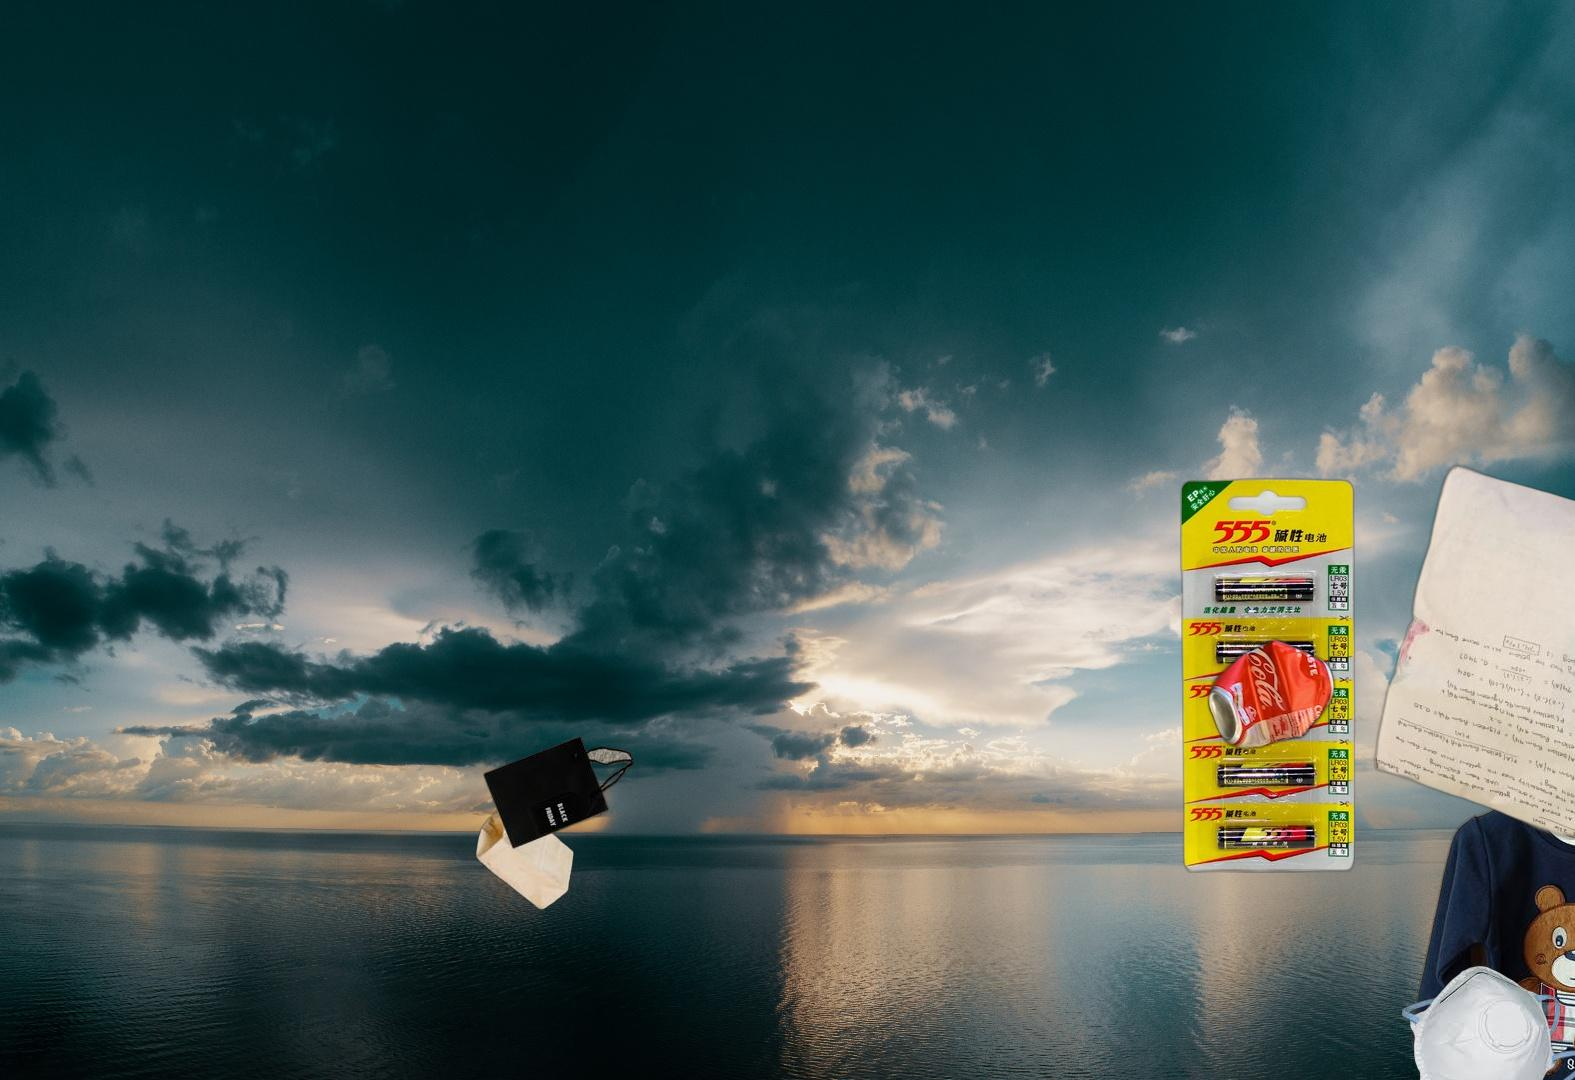battery: (1178, 475, 1358, 873)
clothes: (1410, 760, 1575, 1080)
metal-cans: (1204, 635, 1339, 756)
paper: (1372, 461, 1575, 841)
paper-bag: (475, 734, 637, 914)
trash: (1399, 963, 1575, 1080)
